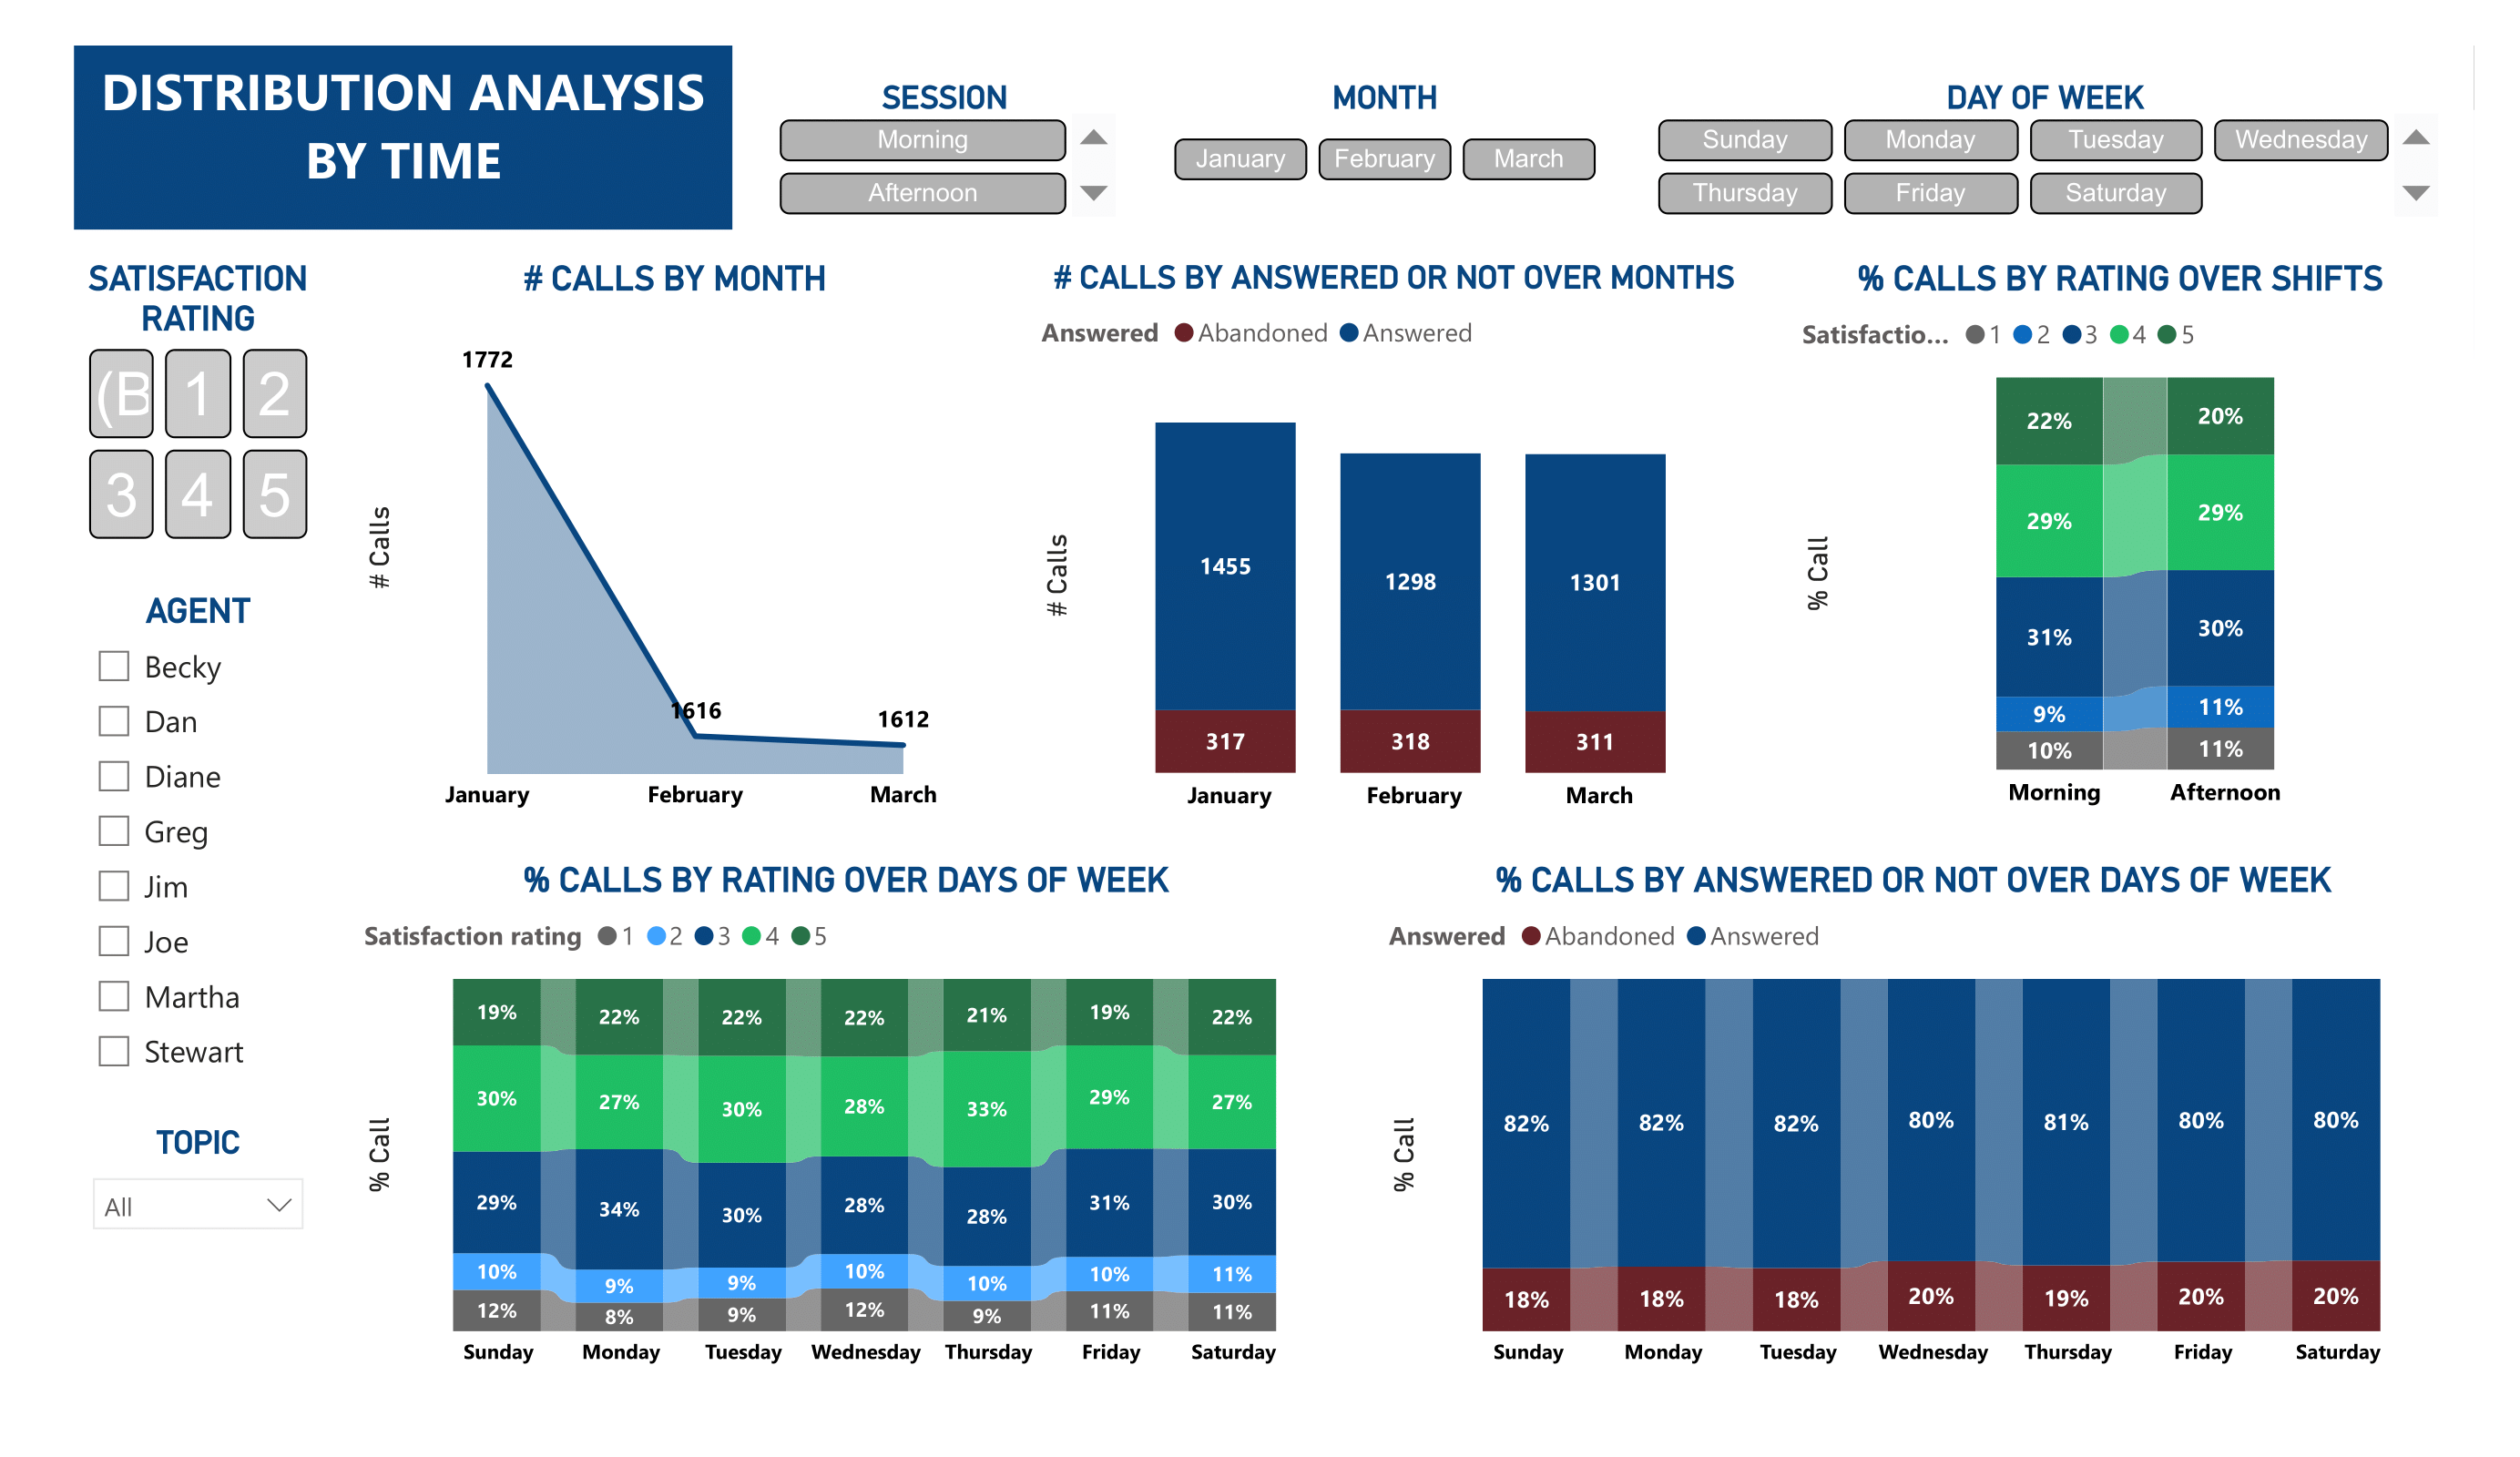

The dashboard page shown, as its layout file describes it:
{"tool":"powerbi","page":{"name":"Distribution_Time","canvas":[1280,720],"ordinal":2},"visuals":[{"type":"lineChart","title":"# CALLS BY MONTH","fields":{"Category":["Date.Date.Variation.Date Hierarchy.Month","Date.Date.Variation.Date Hierarchy.Day"],"Y":["CountNonNull(Callcenter.Call Id)"]},"box":[162.7,112.4,338.7,300.2],"z":0},{"type":"hundredPercentStackedColumnChart","title":"% CALLS BY ANSWERED OR NOT OVER DAYS OF WEEK","fields":{"Y":["CountNonNull(Callcenter.Call Id)"],"Series":["Callcenter.Answered"],"Category":["Date.DayofWeek"]},"box":[702.6,429.3,563.4,276.7],"z":1000},{"type":"hundredPercentStackedColumnChart","title":"% CALLS BY RATING OVER SHIFTS","fields":{"Y":["CountNonNull(Callcenter.Call Id)"],"Category":["Callcenter.Shift"],"Series":["Callcenter.Satisfaction rating"]},"box":[920.6,112.1,345.2,299.8],"z":2000},{"type":"columnChart","title":"# CALLS BY ANSWERED OR NOT OVER MONTHS","fields":{"Y":["CountNonNull(Callcenter.Call Id)"],"Category":["Date.Date.Variation.Date Hierarchy.Month","Date.Date.Variation.Date Hierarchy.Day"],"Series":["Callcenter.Answered"]},"box":[519.8,112.4,382.3,300.2],"z":3000},{"type":"hundredPercentStackedColumnChart","title":"% CALLS BY RATING OVER DAYS OF WEEK","fields":{"Category":["Date.DayofWeek"],"Y":["CountNonNull(Callcenter.Call Id)"],"Series":["Callcenter.Satisfaction rating"]},"box":[162.7,429.3,518.2,276.7],"z":4000},{"type":"ChicletSlicer1448559807354","title":"MONTH","fields":{"Category":["Date.Month"]},"box":[586.9,16.8,238.1,80.5],"z":5000},{"type":"slicer","title":"AGENT","fields":{"Values":["Callcenter.Agent"]},"box":[15.1,286.7,130.8,266.6],"z":6000},{"type":"slicer","title":"TOPIC","fields":{"Values":["Callcenter.Topic"]},"box":[15.1,568.5,130.8,137.5],"z":7000},{"type":"ChicletSlicer1448559807354","title":"SATISFACTION RATING","fields":{"Category":["Callcenter.Satisfaction rating"]},"box":[15.1,112.4,130.8,162.7],"z":8000},{"type":"textbox","box":[15.1,0,347.1,97.3],"z":9000},{"type":"ChicletSlicer1448559807354","title":"DAY OF WEEK","fields":{"Category":["Date.DayofWeek"]},"box":[841.8,16.8,424.2,80.5],"z":10000},{"type":"ChicletSlicer1448559807354","title":"SESSION","fields":{"Category":["Callcenter.Shift"]},"box":[378.7,16.9,190,80.2],"z":11000}]}

Visuals, with their boxes on the page's 1280x720 design canvas (x1, y1, x2, y2). These are canvas units, not pixel positions in the 2520x1457 screenshot, which may show the page scaled, cropped or inside an application window:
"# CALLS BY MONTH" lineChart: [x1=163, y1=112, x2=501, y2=413]
"% CALLS BY ANSWERED OR NOT OVER DAYS OF WEEK" hundredPercentStackedColumnChart: [x1=703, y1=429, x2=1266, y2=706]
"% CALLS BY RATING OVER SHIFTS" hundredPercentStackedColumnChart: [x1=921, y1=112, x2=1266, y2=412]
"# CALLS BY ANSWERED OR NOT OVER MONTHS" columnChart: [x1=520, y1=112, x2=902, y2=413]
"% CALLS BY RATING OVER DAYS OF WEEK" hundredPercentStackedColumnChart: [x1=163, y1=429, x2=681, y2=706]
"MONTH" ChicletSlicer1448559807354: [x1=587, y1=17, x2=825, y2=97]
"AGENT" slicer: [x1=15, y1=287, x2=146, y2=553]
"TOPIC" slicer: [x1=15, y1=568, x2=146, y2=706]
"SATISFACTION RATING" ChicletSlicer1448559807354: [x1=15, y1=112, x2=146, y2=275]
textbox: [x1=15, y1=0, x2=362, y2=97]
"DAY OF WEEK" ChicletSlicer1448559807354: [x1=842, y1=17, x2=1266, y2=97]
"SESSION" ChicletSlicer1448559807354: [x1=379, y1=17, x2=569, y2=97]
